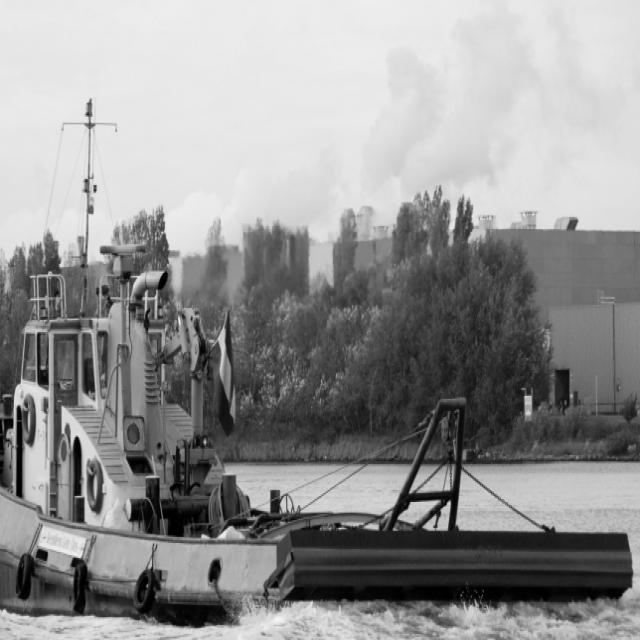tugboat: (1, 236, 303, 638)
